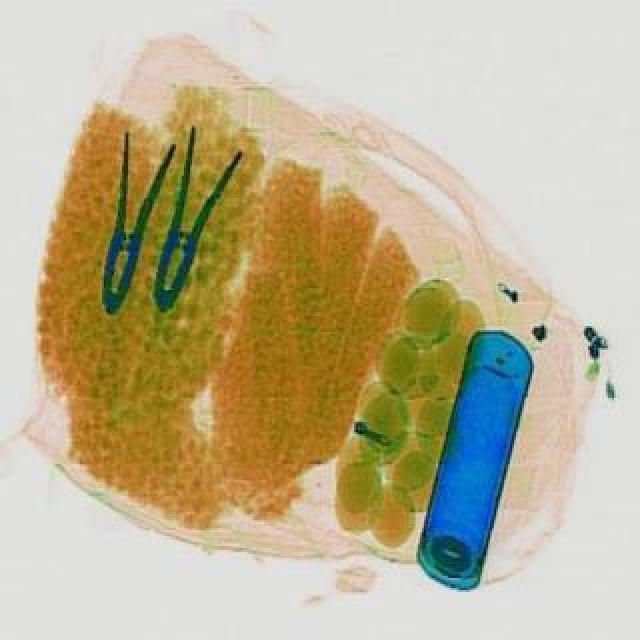wrench: (130, 118, 246, 314), (80, 130, 176, 318)
